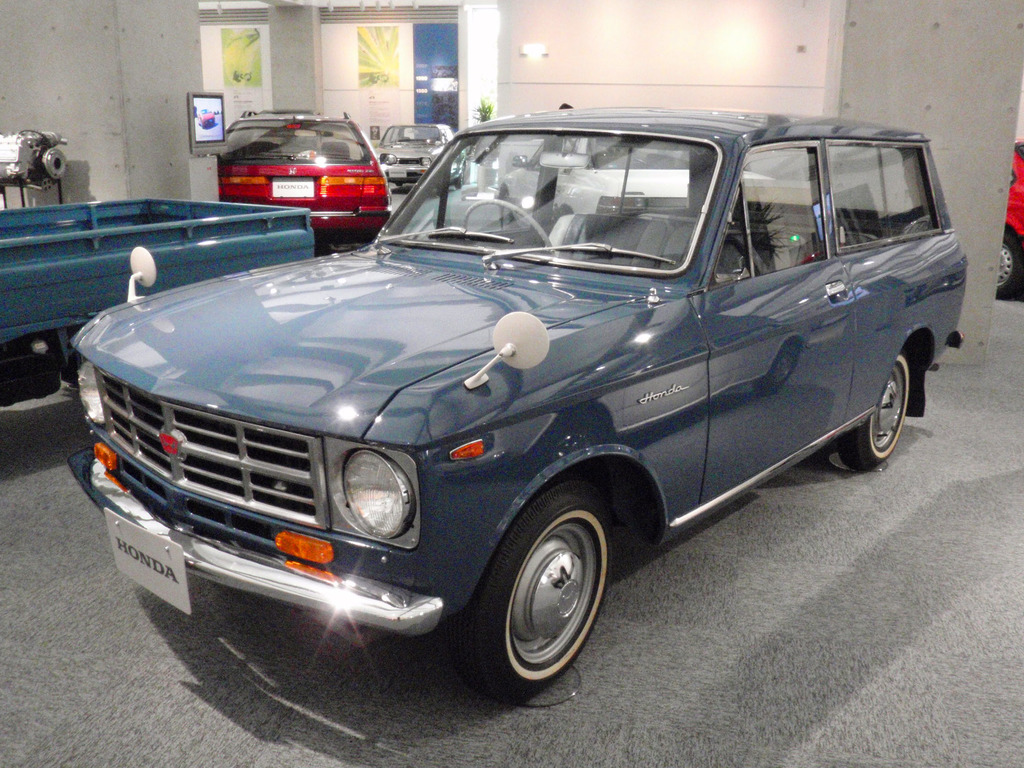Car: (65, 101, 963, 699), (997, 137, 1023, 297)
